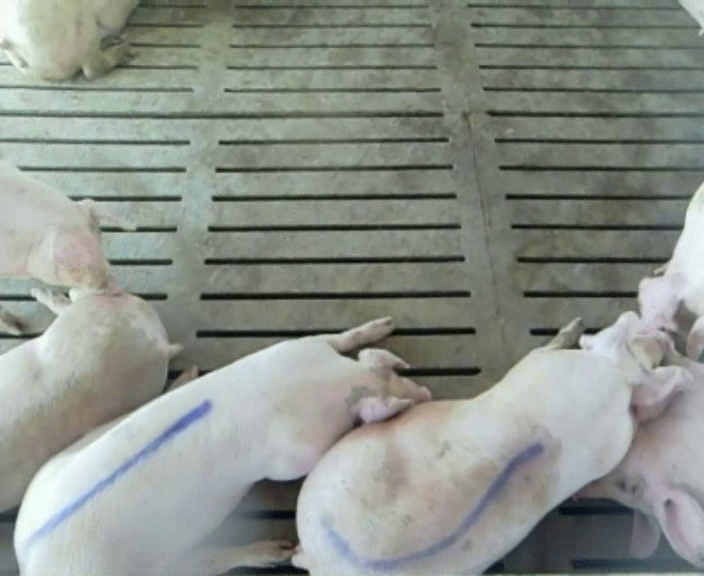pig: (15, 320, 429, 575), (298, 313, 693, 573), (0, 288, 179, 512), (639, 183, 703, 359)
